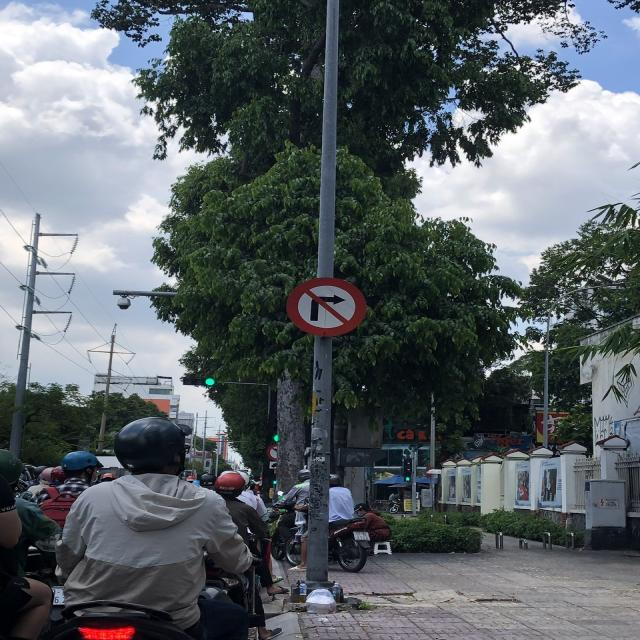Bien bao cam re phai: (284, 272, 370, 341)
